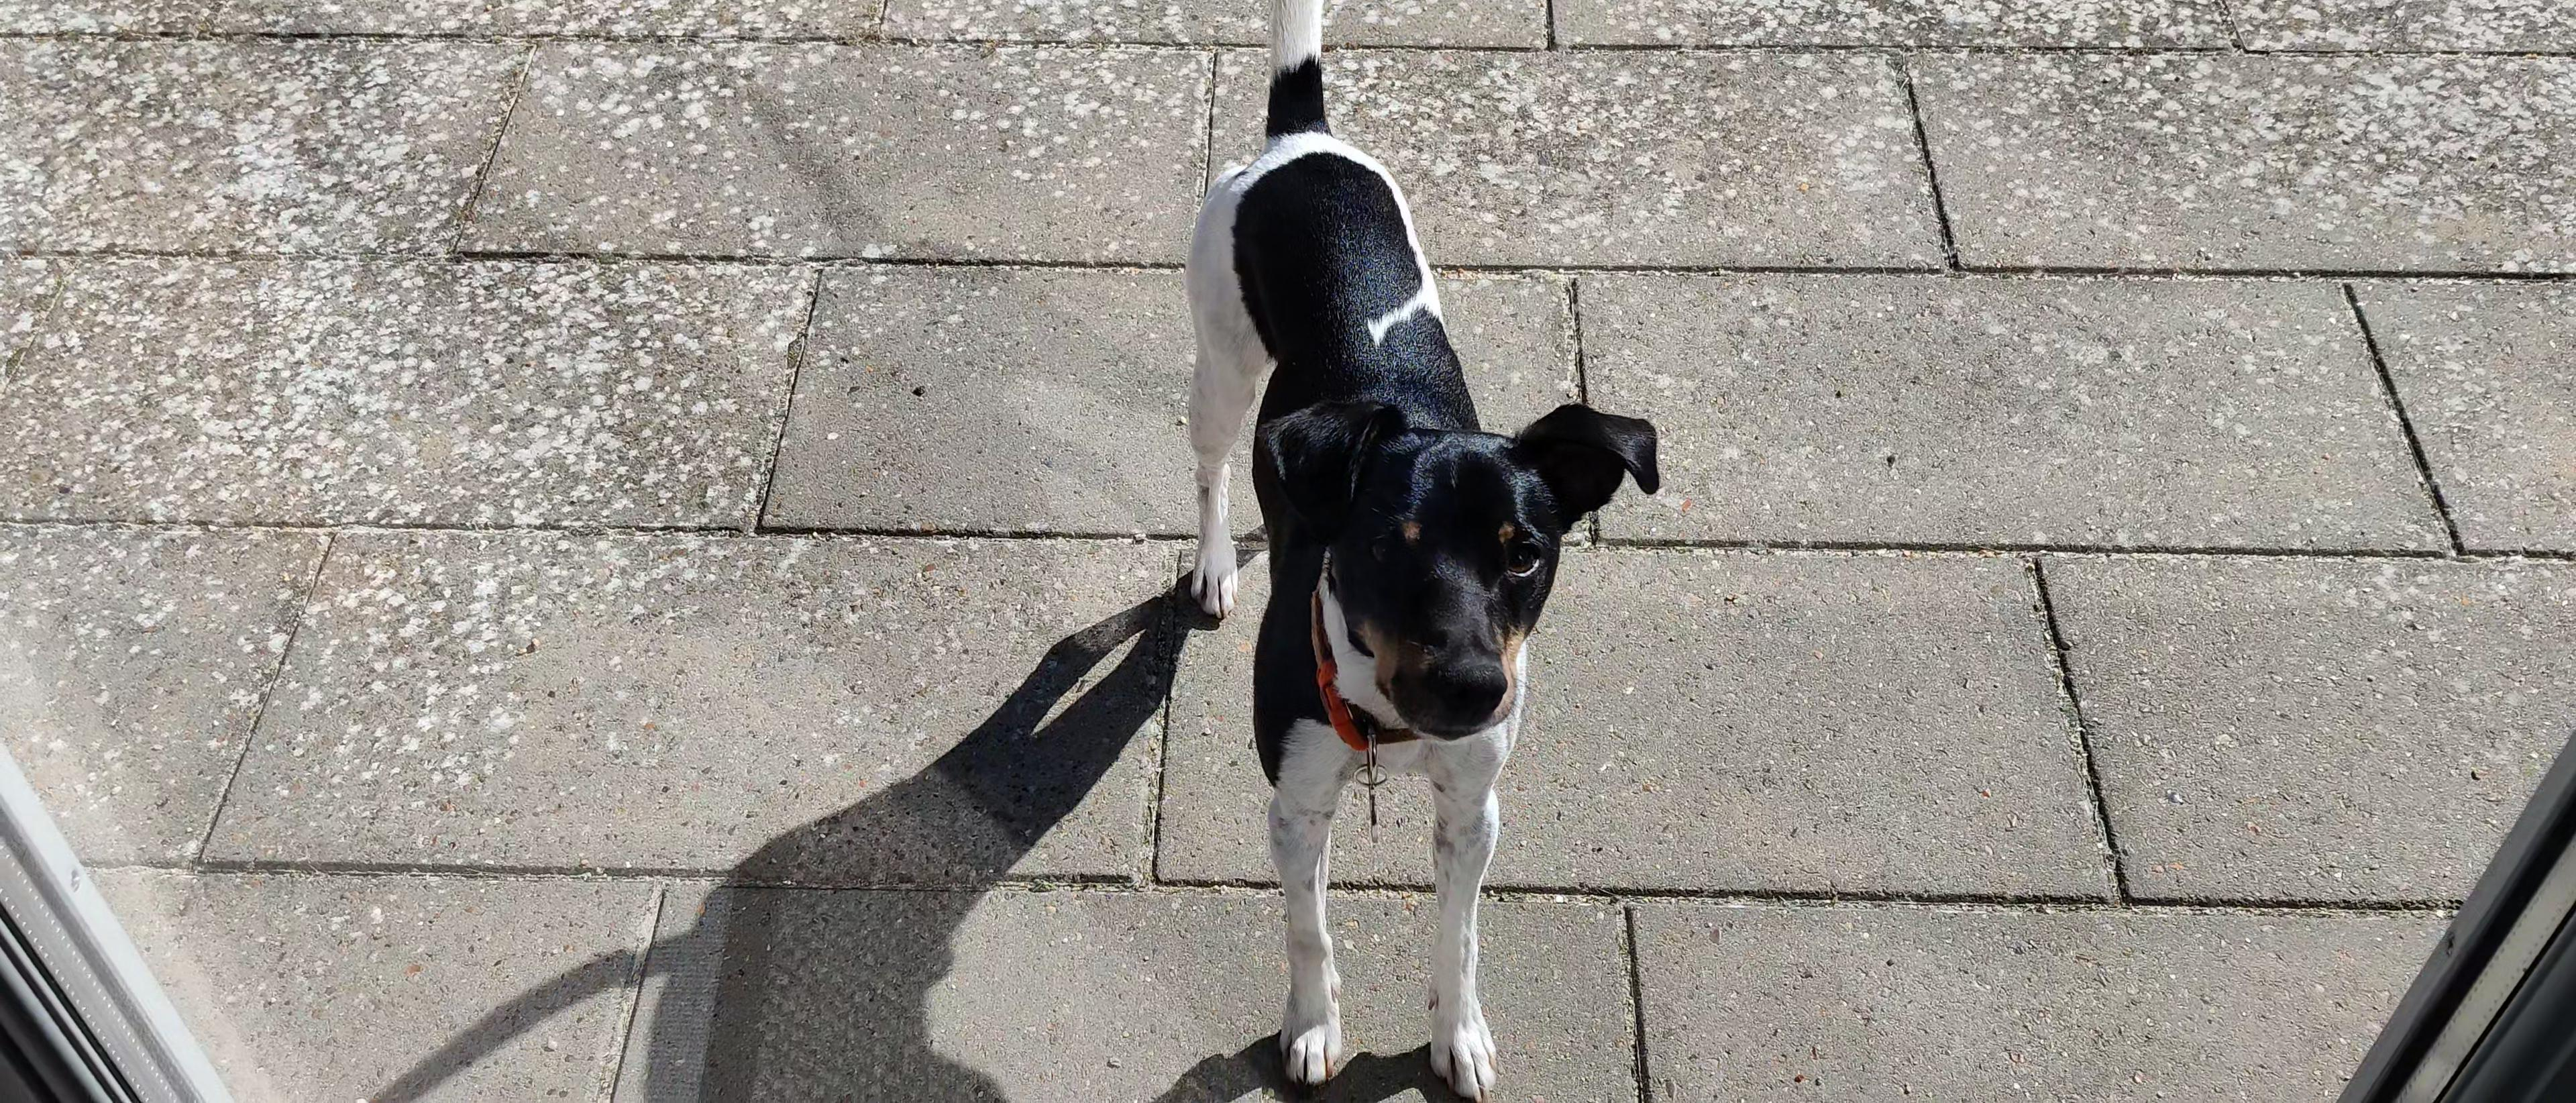Dog: (1165, 0, 1666, 1103)
